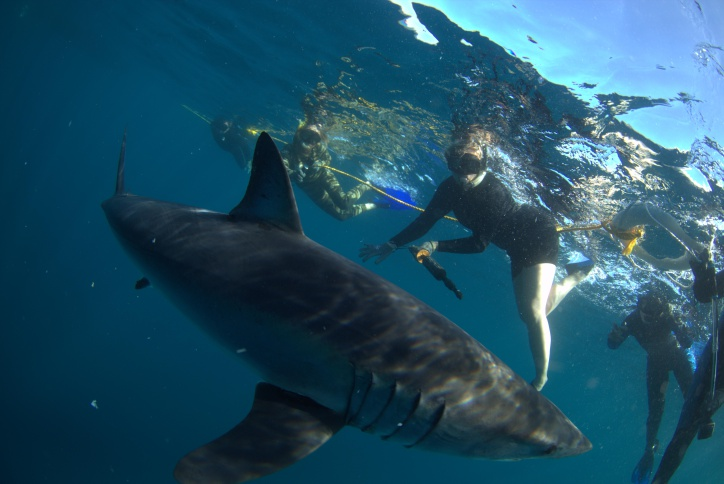Mako: (76, 113, 595, 484)
